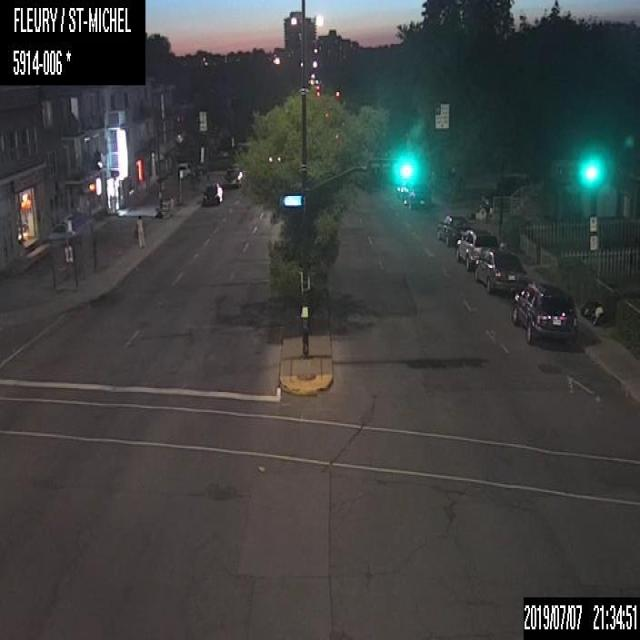pedestrian: (136, 212, 146, 245)
vehicle: (510, 278, 578, 345), (473, 243, 529, 298), (455, 225, 498, 272), (433, 210, 469, 248), (202, 178, 224, 203), (222, 165, 244, 190), (409, 189, 427, 208)
